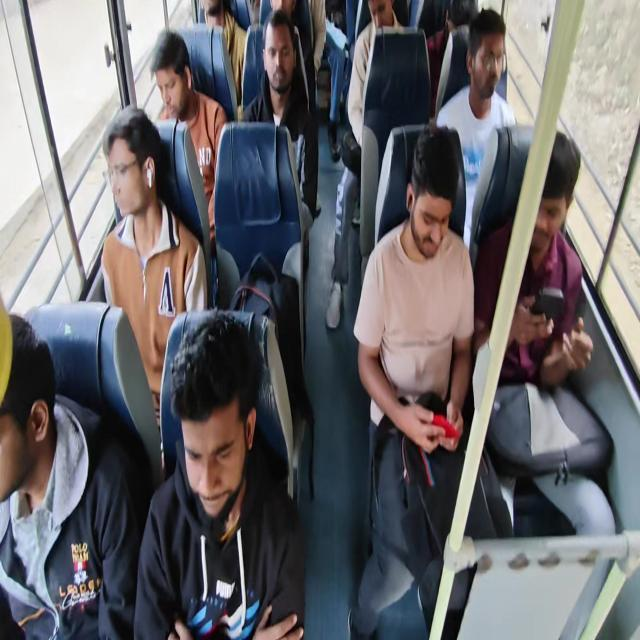person: (154, 357, 303, 581), (0, 304, 48, 640), (526, 136, 596, 298), (97, 125, 172, 276), (397, 133, 472, 256), (154, 45, 194, 166), (473, 25, 519, 113), (260, 30, 295, 118), (196, 6, 235, 57), (434, 0, 473, 31), (264, 0, 299, 32), (311, 0, 332, 52), (361, 0, 391, 31)
